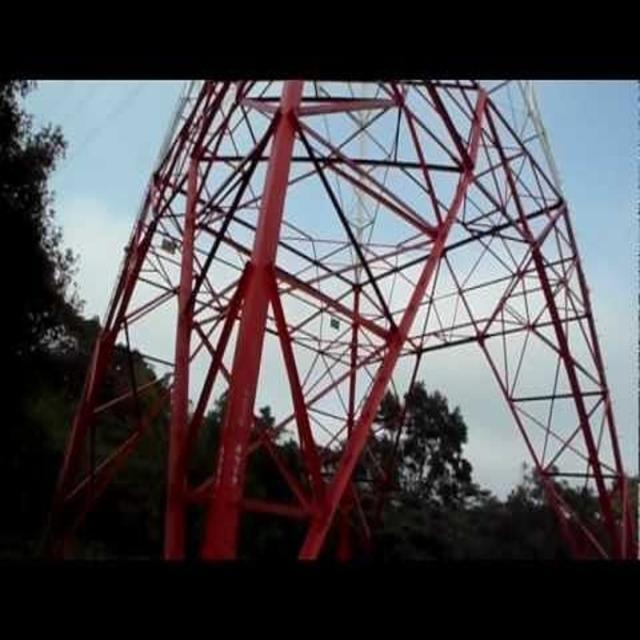non-critical vegetation: (93, 80, 622, 550)
